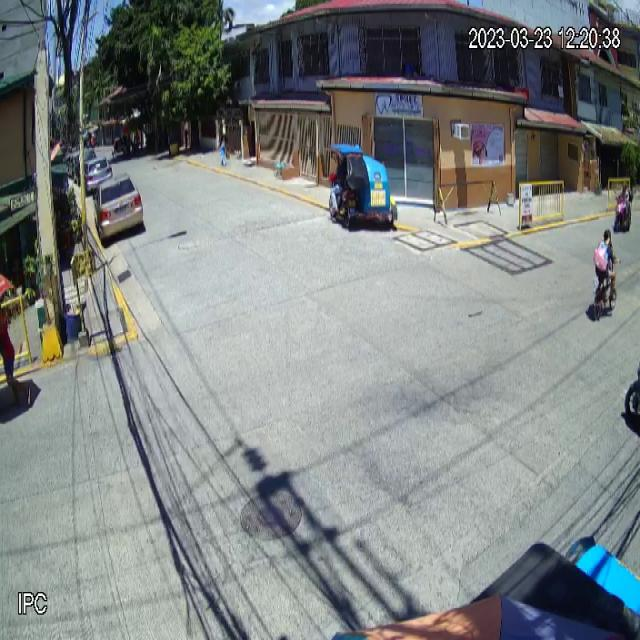Tricycle: (328, 143, 398, 225)
